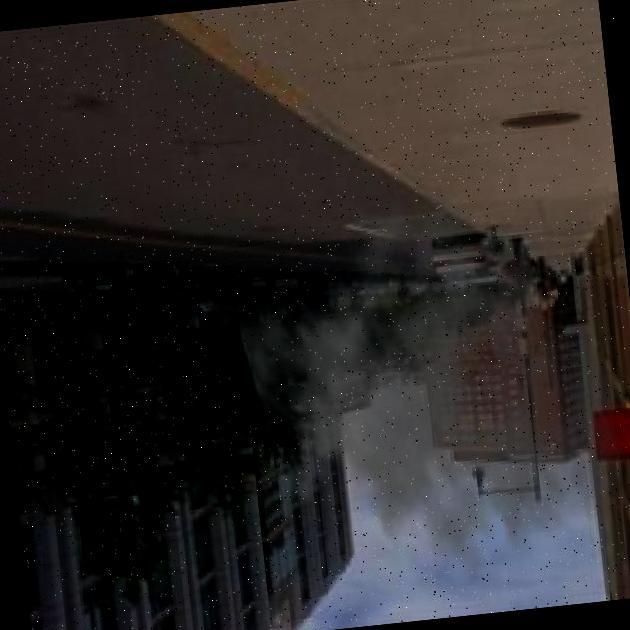smoke: (271, 200, 593, 512)
